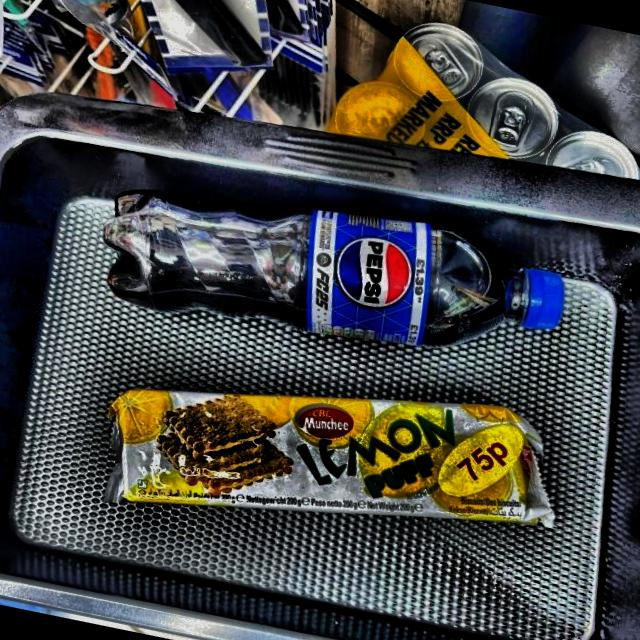lemon puff: (103, 392, 564, 512)
pepsi-bottle: (90, 200, 560, 342)
